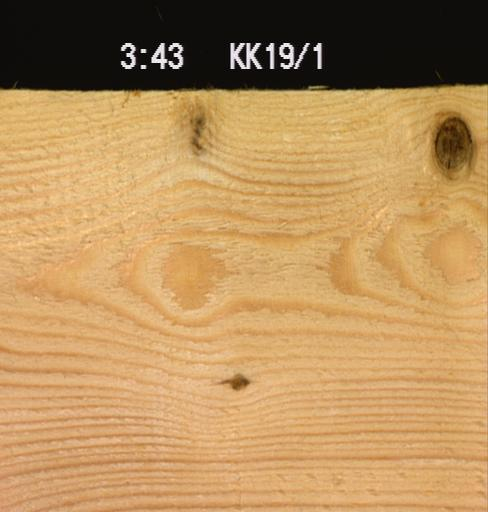dry_knot: (431, 113, 473, 173), (213, 370, 252, 391)
